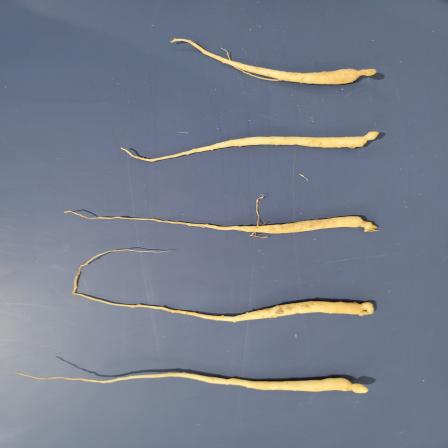Ginseng: (71, 248, 381, 327), (172, 36, 382, 90), (120, 128, 384, 164), (14, 370, 376, 395), (63, 213, 383, 237)
head: (352, 299, 376, 317), (345, 378, 370, 394), (355, 216, 378, 233), (358, 130, 380, 147), (354, 67, 378, 81)
